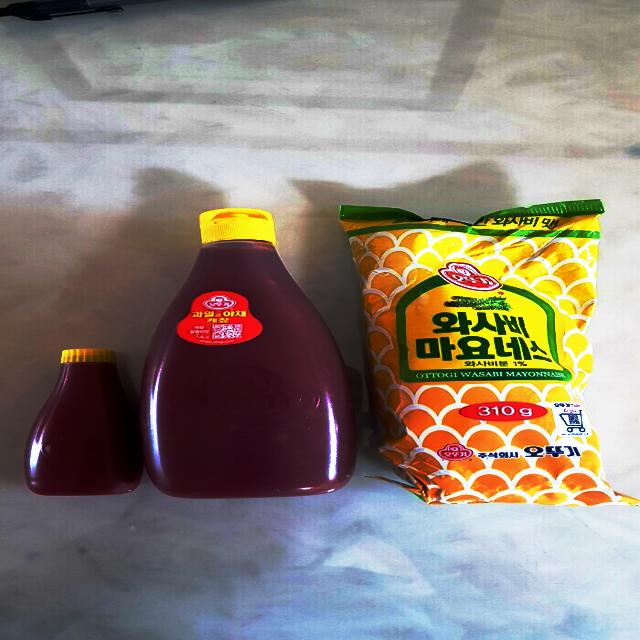ketchup: (146, 204, 370, 502), (23, 348, 153, 495)
